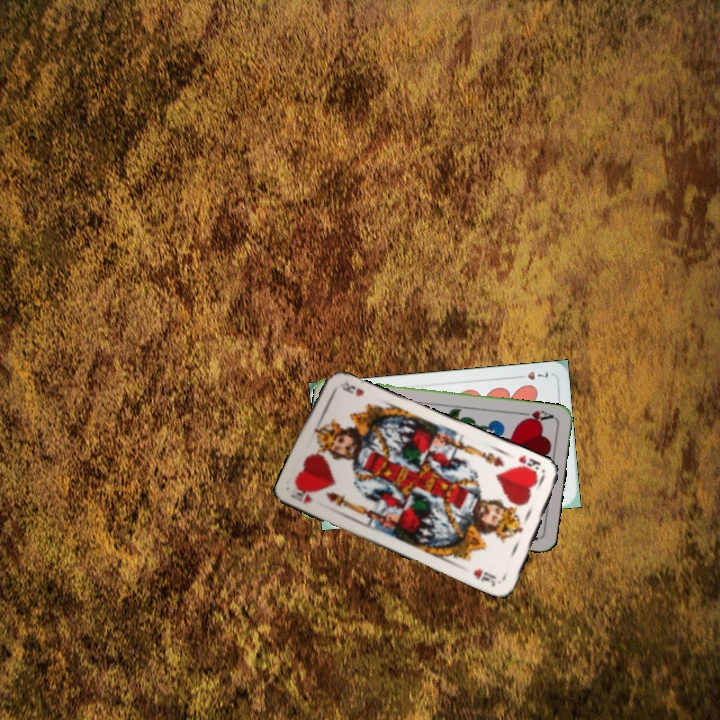H7: (512, 367, 551, 382)
HA: (516, 406, 556, 425)
HK: (509, 451, 543, 478), (287, 488, 315, 506)
